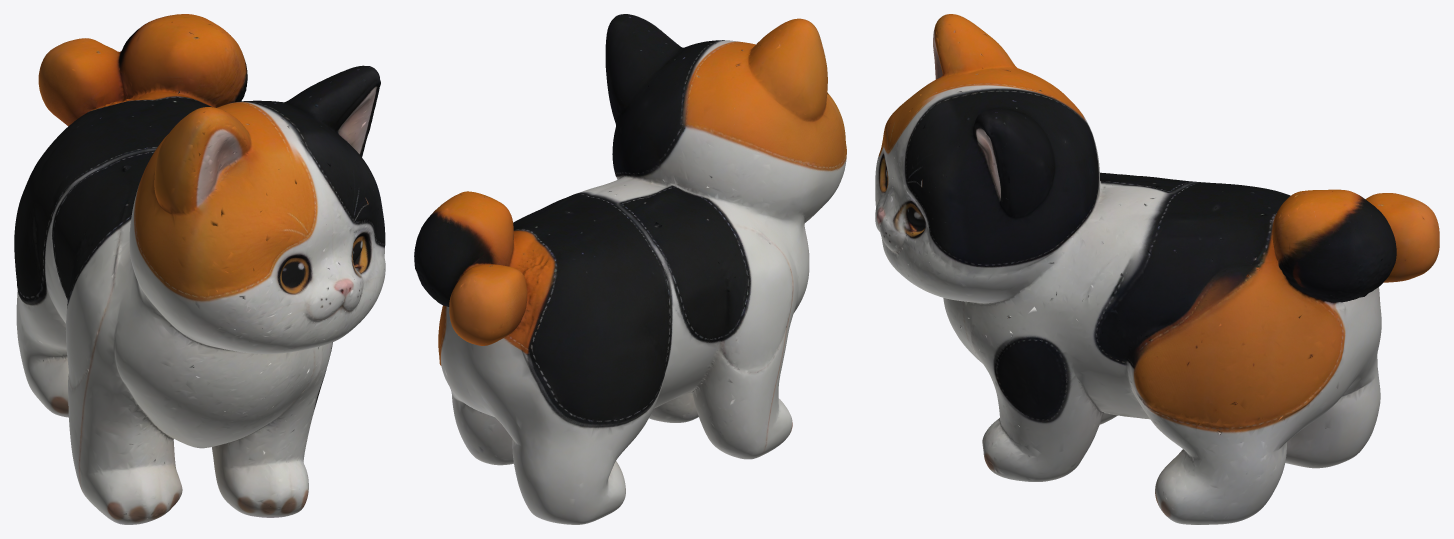
The model's file is cat3.glb.
The picture shows the model from 3 angles, left to right: view 1: azimuth 30°, elevation 25°; view 2: azimuth 150°, elevation 25°; view 3: azimuth 270°, elevation 25°; orthographic projection. The views are drawn at different scales.
Bounding box in the file's own units: 1.11 × 1.62 × 2.
Materials: 1 (1 with a texture image).
